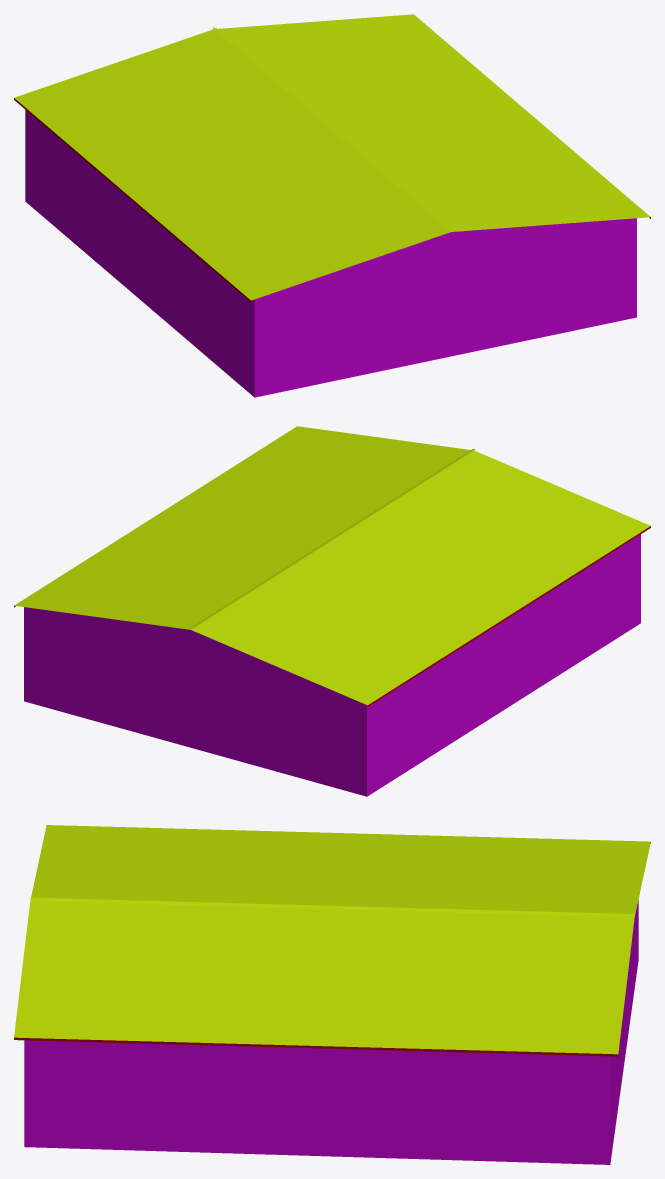
The model's file is scl_110.glb.
3 views of the same model, one above another, from view 1: azimuth 30°, elevation 25°; view 2: azimuth 150°, elevation 25°; view 3: azimuth 270°, elevation 25° (orthographic). The views are drawn at different scales.
Visible parts, largest first — view 1: scl_110; view 2: scl_110; view 3: scl_110.
Part boxes in pixels (x1=…): scl_110: x1=14, y1=14, x2=650, y2=397; scl_110: x1=14, y1=426, x2=650, y2=796; scl_110: x1=14, y1=825, x2=650, y2=1164.
Bounding box in the file's own units: 25.15 × 7.54 × 29.53.
